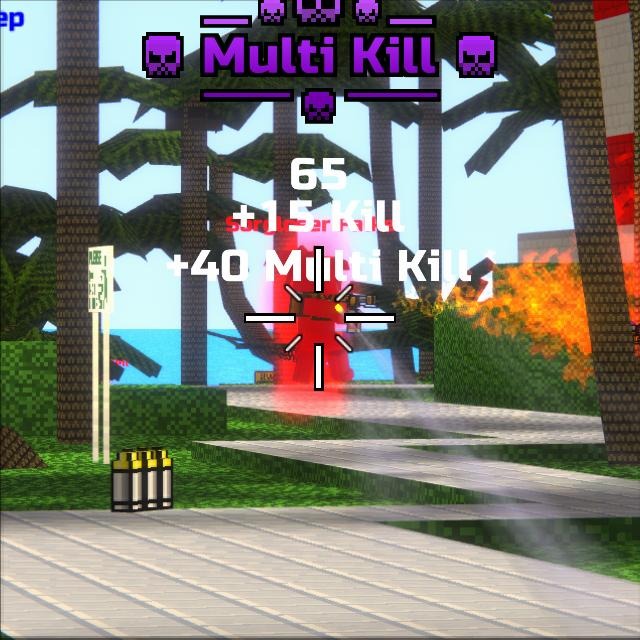Enemy: (287, 253, 357, 401)
